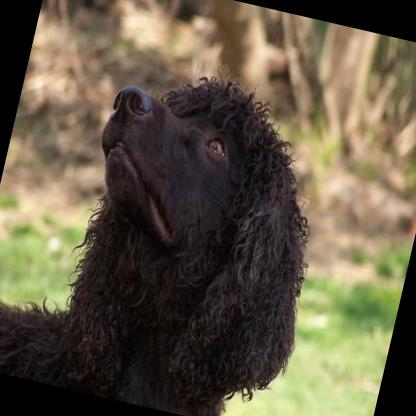Irish_water_spaniel: (0, 21, 357, 416)
